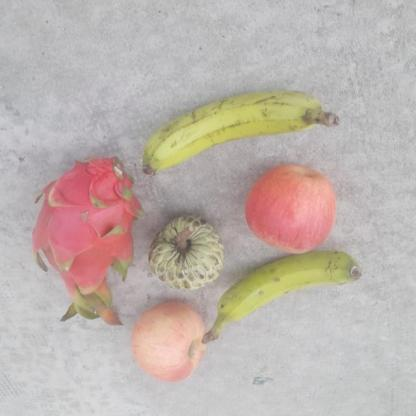annona: (147, 216, 225, 292)
apple: (244, 162, 338, 255), (129, 299, 208, 383)
banana: (143, 90, 343, 178), (200, 249, 362, 344)
pitaya: (28, 157, 144, 300)
